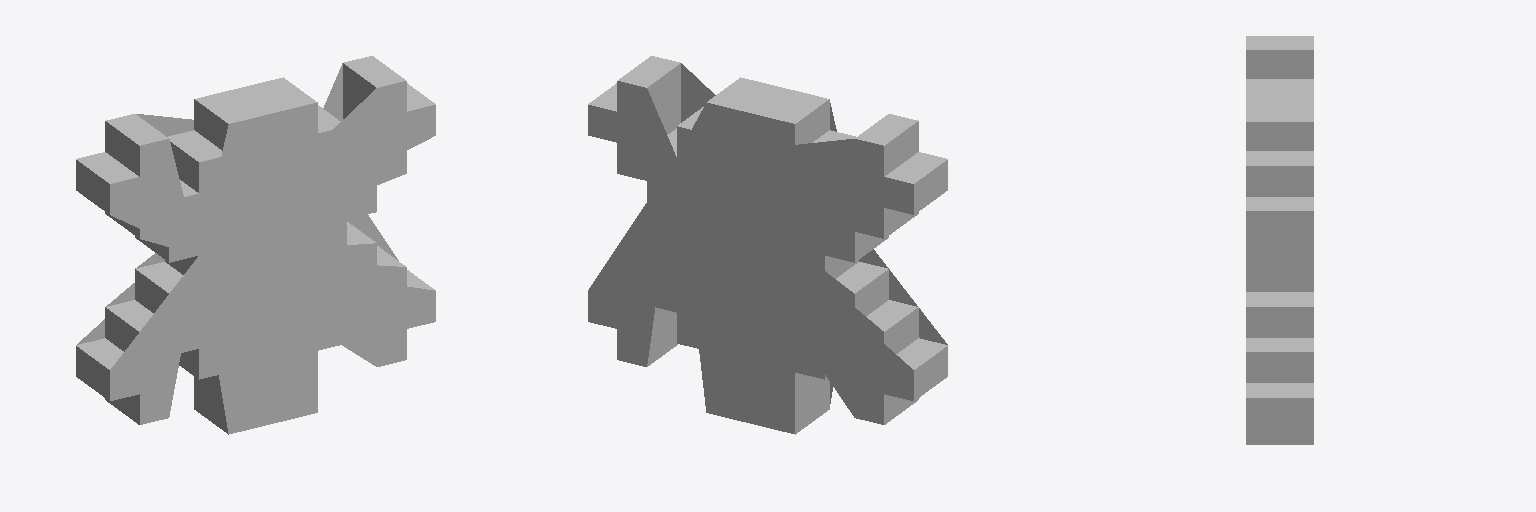
The model's file is lifeotimized.obj.
The picture shows the model from 3 angles: view 1: azimuth 30°, elevation 25°; view 2: azimuth 150°, elevation 25°; view 3: azimuth 270°, elevation 25°; orthographic projection.
Parts seen in each view (by area): view 1: Cube_Cube.001; view 2: Cube_Cube.001; view 3: Cube_Cube.001.
Part boxes in pixels (x1,y1,x2,y2): Cube_Cube.001: (76, 56, 435, 434); Cube_Cube.001: (588, 56, 947, 434); Cube_Cube.001: (1246, 36, 1313, 444).
Bounding box in the file's own units: 0.22 × 0.2 × 0.04.